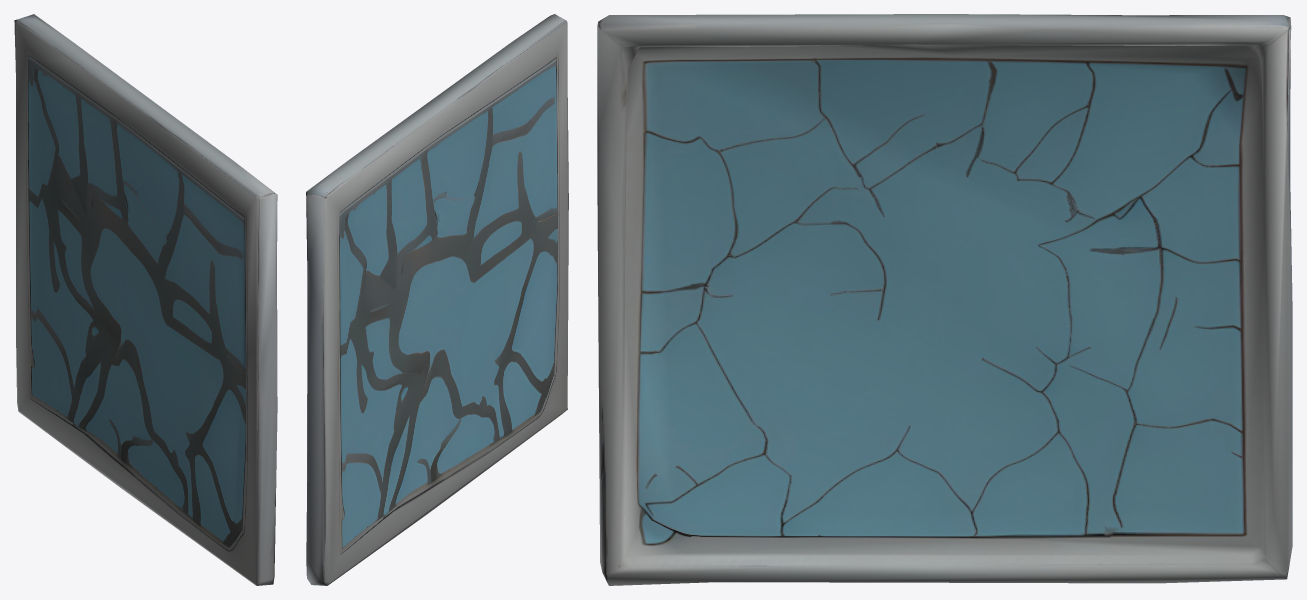
Rendered from BrokenGlass 1.fbx.
The picture shows the model from 3 angles, left to right: view 1: azimuth 30°, elevation 25°; view 2: azimuth 150°, elevation 25°; view 3: azimuth 270°, elevation 25°; orthographic projection. The views are drawn at different scales.
Visible parts, largest first — view 1: BrokenGlass 1; view 2: BrokenGlass 1; view 3: BrokenGlass 1.
Boxes of the visible parts, box(x1,y1,x2,y2) form: BrokenGlass 1: box(14, 14, 277, 585); BrokenGlass 1: box(306, 14, 568, 585); BrokenGlass 1: box(597, 14, 1292, 585).
Size of the model in its own units: 4.68 by 89.02 by 99.87.
1 material, 1 textured.
